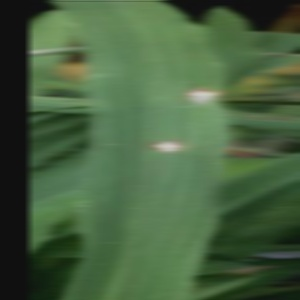Brown_Spot: (135, 129, 204, 168), (183, 82, 235, 114)
